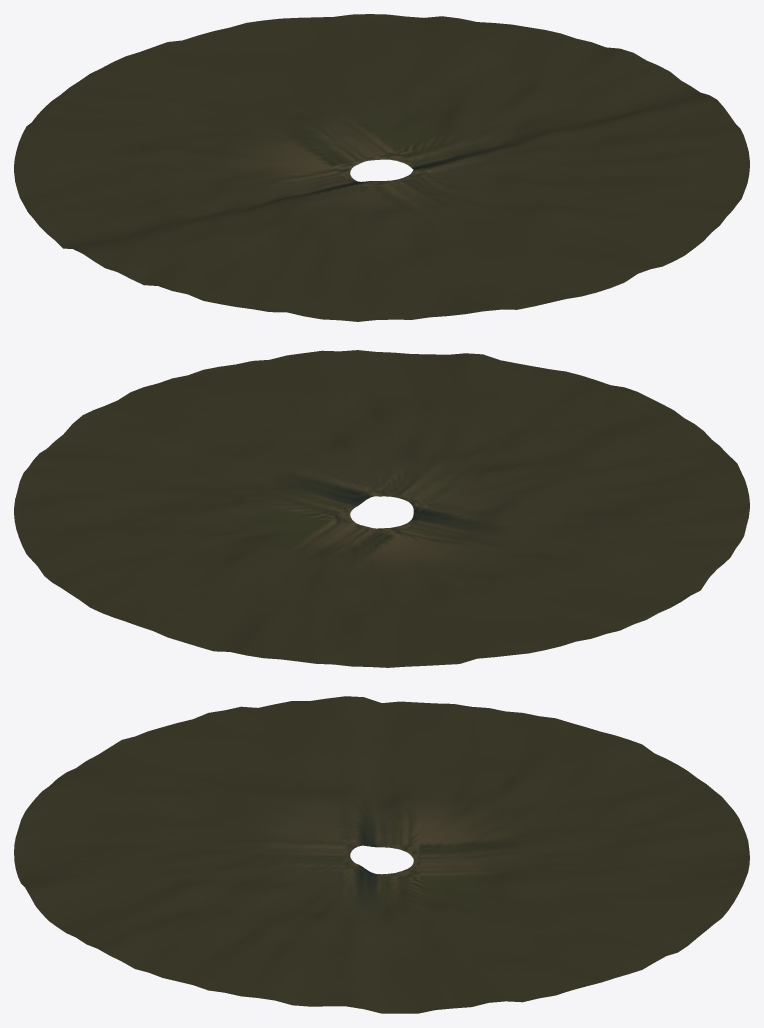
The model's file is laodikeia-bati-tiyatrosu-skirt.glb.
3 renders of one model, top to bottom at view 1: azimuth 30°, elevation 25°; view 2: azimuth 150°, elevation 25°; view 3: azimuth 270°, elevation 25°, orthographic.
Parts seen in each view (by area): view 1: laodikeia-bati-tiyatrosu-skirt; view 2: laodikeia-bati-tiyatrosu-skirt; view 3: laodikeia-bati-tiyatrosu-skirt.
Boxes of the visible parts, <box> form: laodikeia-bati-tiyatrosu-skirt: <box>14,14,749,321</box>; laodikeia-bati-tiyatrosu-skirt: <box>14,350,749,667</box>; laodikeia-bati-tiyatrosu-skirt: <box>14,696,749,1013</box>.
Size of the model in its own units: 8400 by 160 by 8400.
